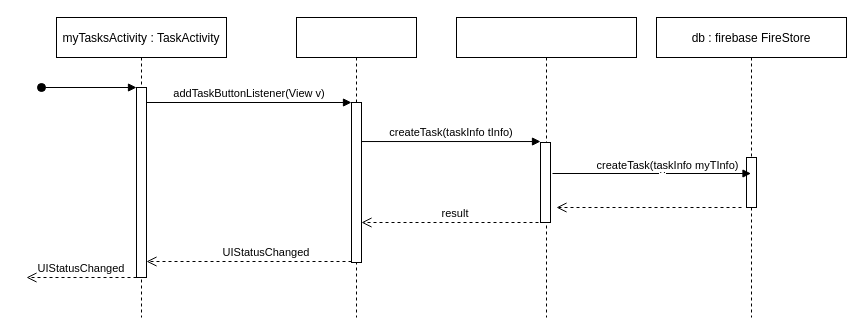
Some shapes in this 864 by 335 pixel diagram are drawn without their labels. Here are the shapes that lost their labels. From the top down, the box of each, then its label:
(296, 16, 416, 318): taskAction: taskClass
(456, 16, 636, 318): firebaseTask : taskFirebaseClass
